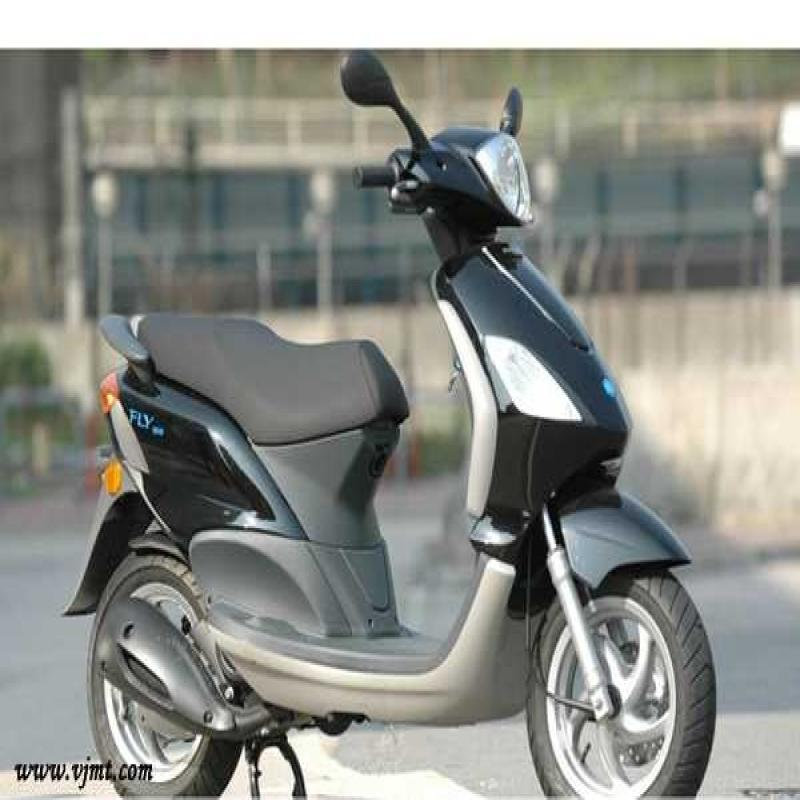bike: (41, 35, 786, 790)
